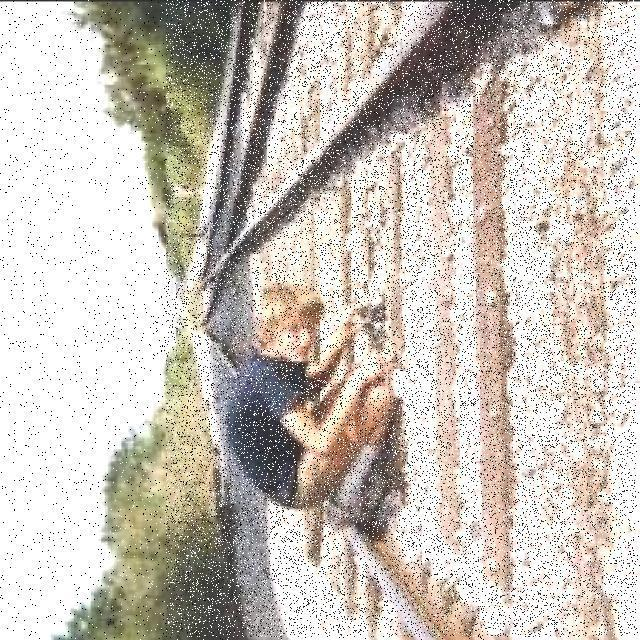danger: (223, 280, 406, 532)
rail: (167, 0, 636, 637)
